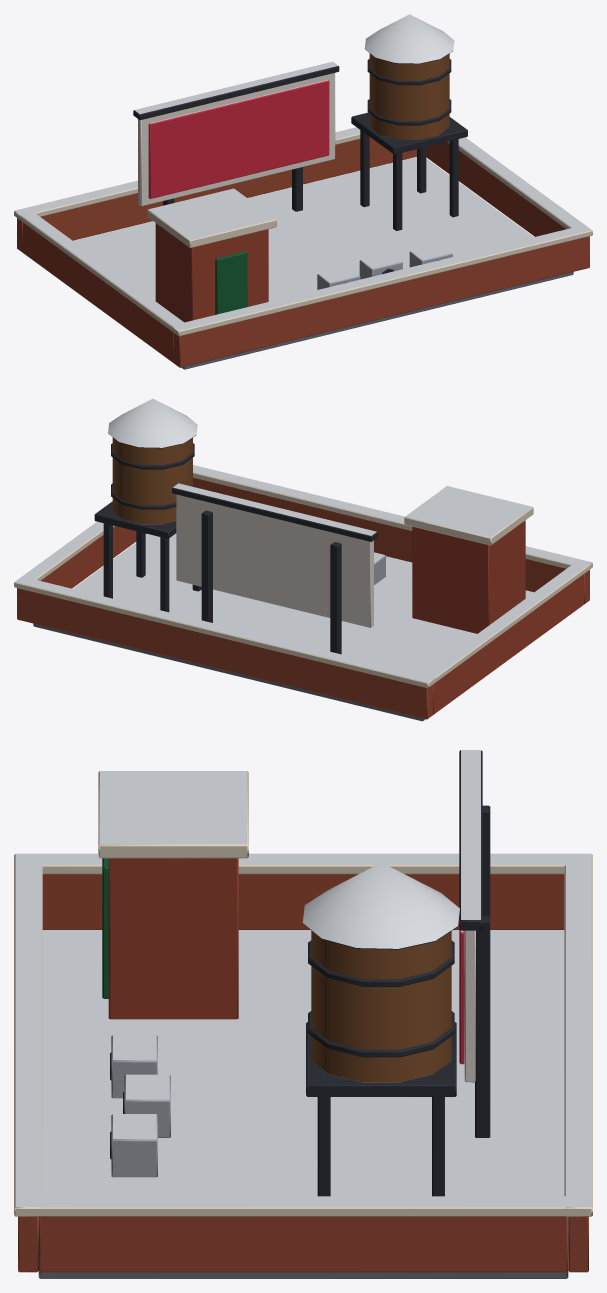
The model's file is Apartment_Roof.glb.
3 views of the same model, one above another, from view 1: azimuth 30°, elevation 25°; view 2: azimuth 150°, elevation 25°; view 3: azimuth 270°, elevation 25° (orthographic). The views are drawn at different scales.
Parts seen in each view (by area): view 1: Apartment_Roof; view 2: Apartment_Roof; view 3: Apartment_Roof.
Part boxes in pixels (x1,y1,x2,y2): Apartment_Roof: (14,14,592,369); Apartment_Roof: (14,398,592,721); Apartment_Roof: (14,750,592,1278).
Bounding box in the file's own units: 32.3 × 15.3 × 22.3.
